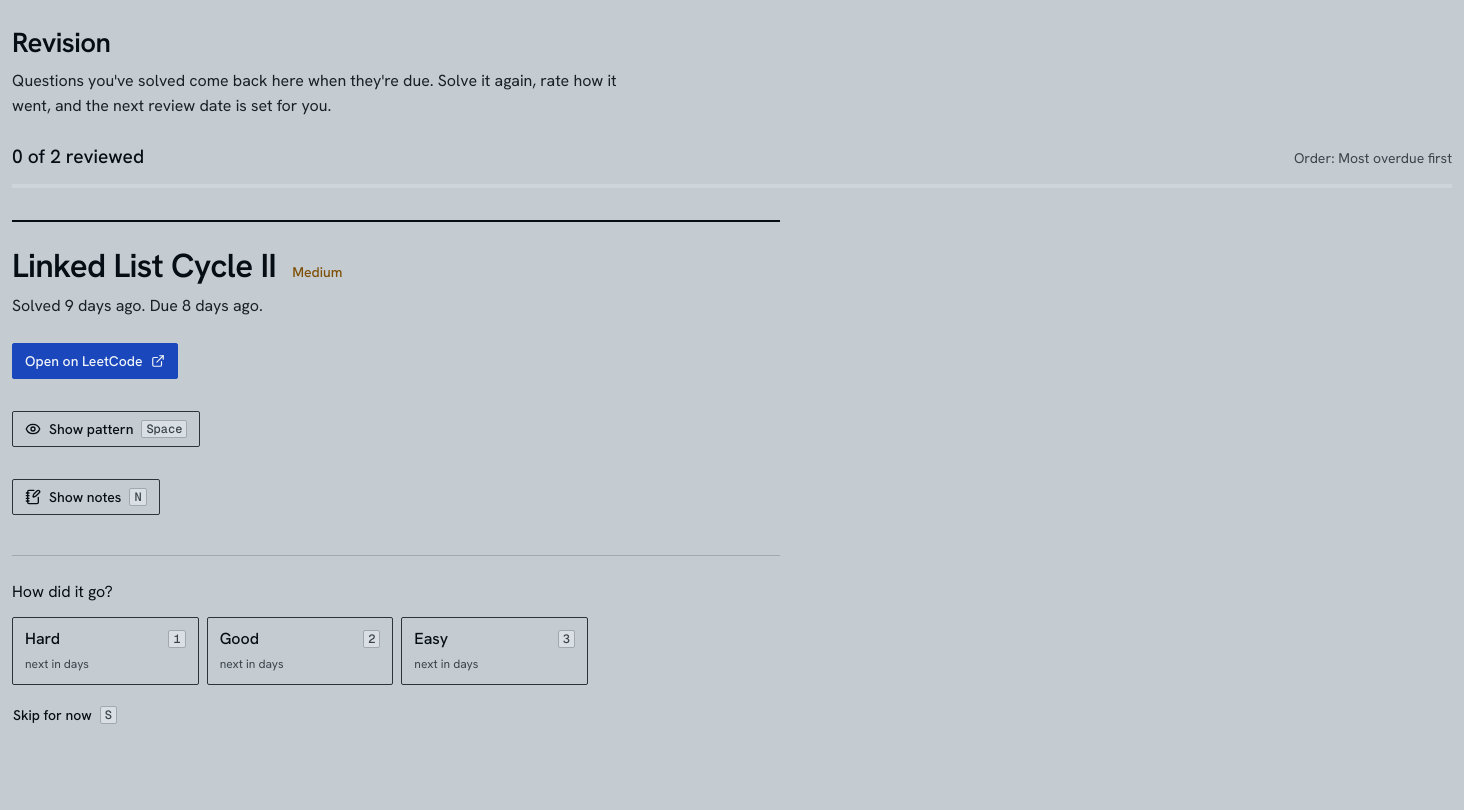
it: RevisionView › hides notes again on the next question
Click the button "Show notes N" at (86, 497), box x1=12 y1=479 x2=160 y2=515
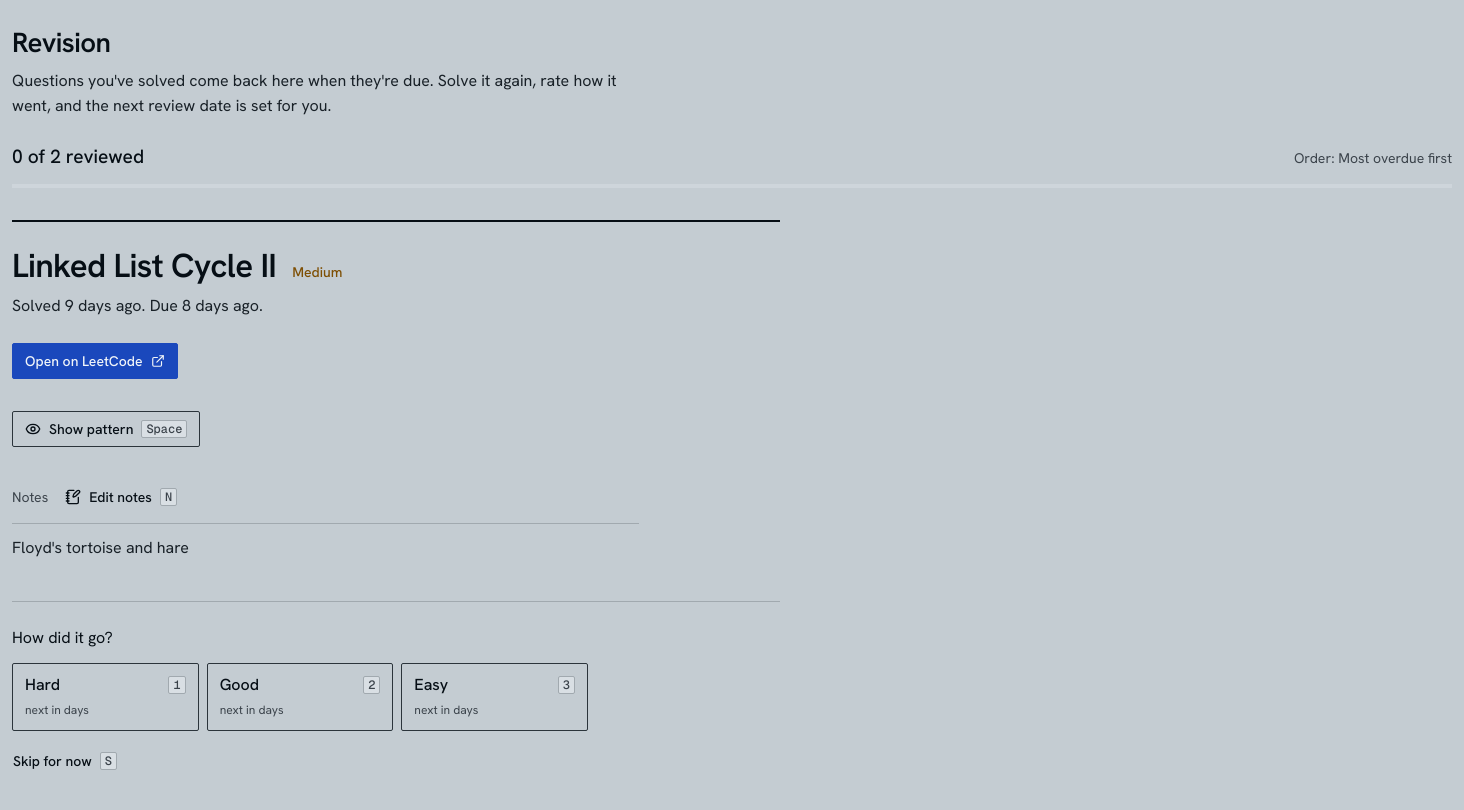
Click the button "Good 2 next in days" at (300, 696), box x1=207 y1=662 x2=393 y2=730
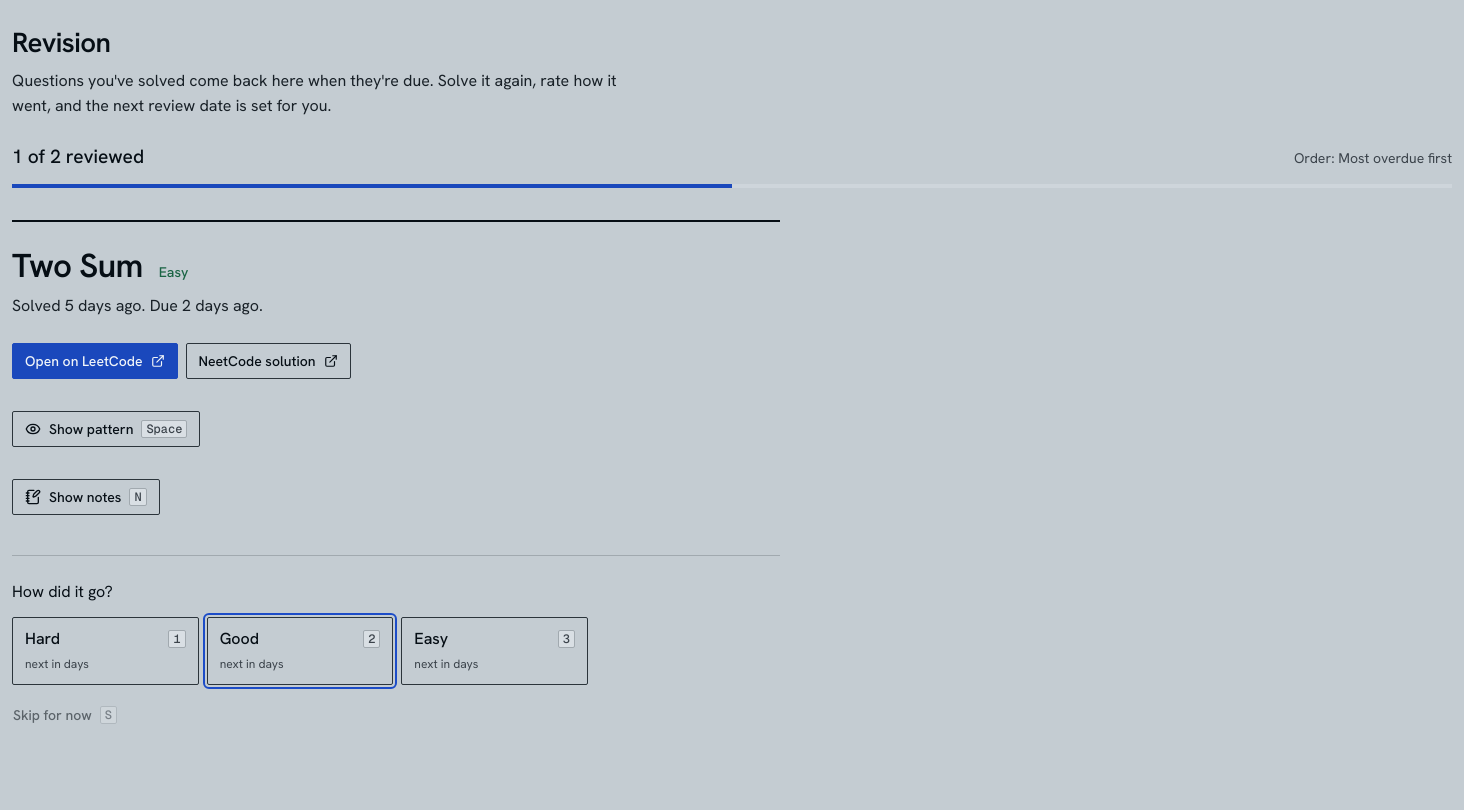
Expected: the heading "Two Sum" is shown, x1=12 y1=246 x2=143 y2=286
Expected: the button "Show notes N" is shown, x1=12 y1=479 x2=160 y2=515
